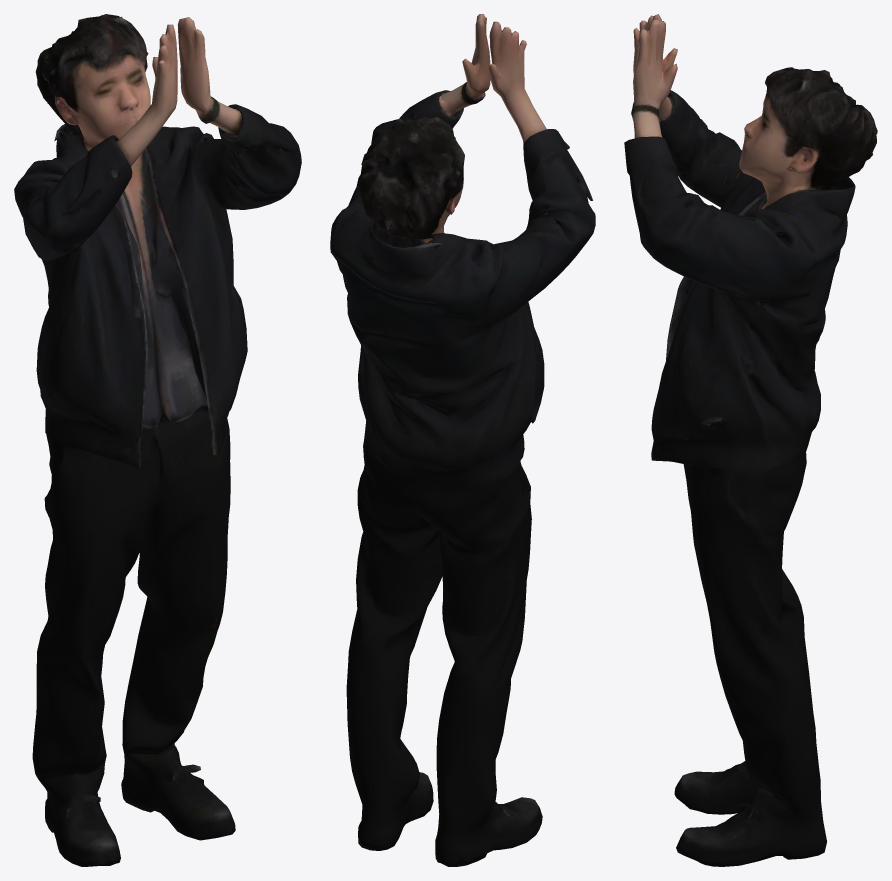
File: fan-side-s1.glb
3 renders of one model, left to right at view 1: azimuth 30°, elevation 25°; view 2: azimuth 150°, elevation 25°; view 3: azimuth 270°, elevation 25°, orthographic. The views are drawn at different scales.
Visible parts, largest first — view 1: geometry_0; view 2: geometry_0; view 3: geometry_0.
Boxes of the visible parts, left/top/right/bottom form: geometry_0: left=14, top=14, right=301, bottom=866; geometry_0: left=330, top=14, right=595, bottom=866; geometry_0: left=624, top=14, right=877, bottom=866.
Bounding box in the file's own units: 0.3065 × 1 × 0.2819.
1 material, 1 textured.
